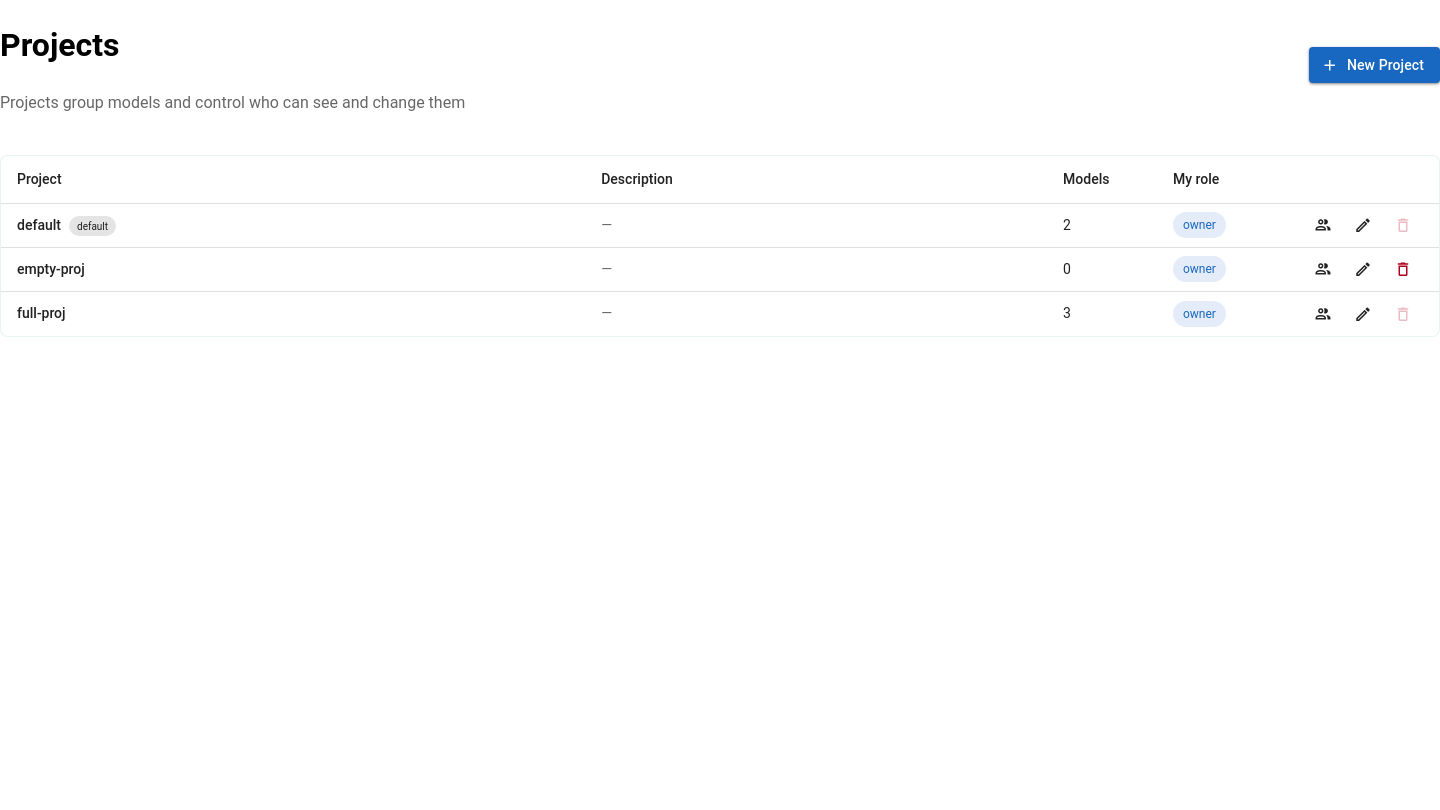
Test case: ProjectsPage project management › shows the API error when deletion is rejected
Click the button named "Delete empty-proj" at (1403, 269), box [1383, 249, 1423, 289]
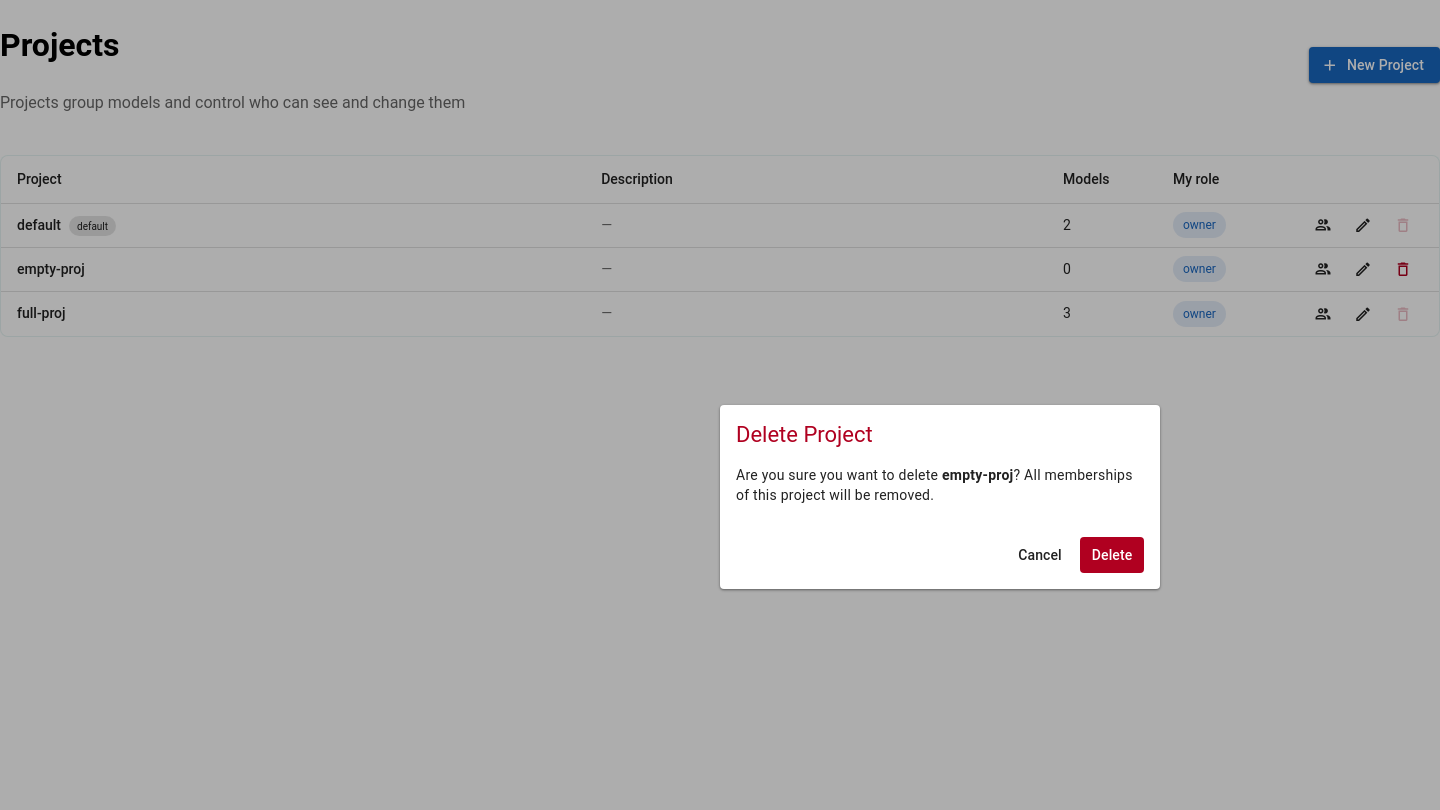
Click the button "Delete" at (1112, 555), box [1080, 537, 1144, 573]
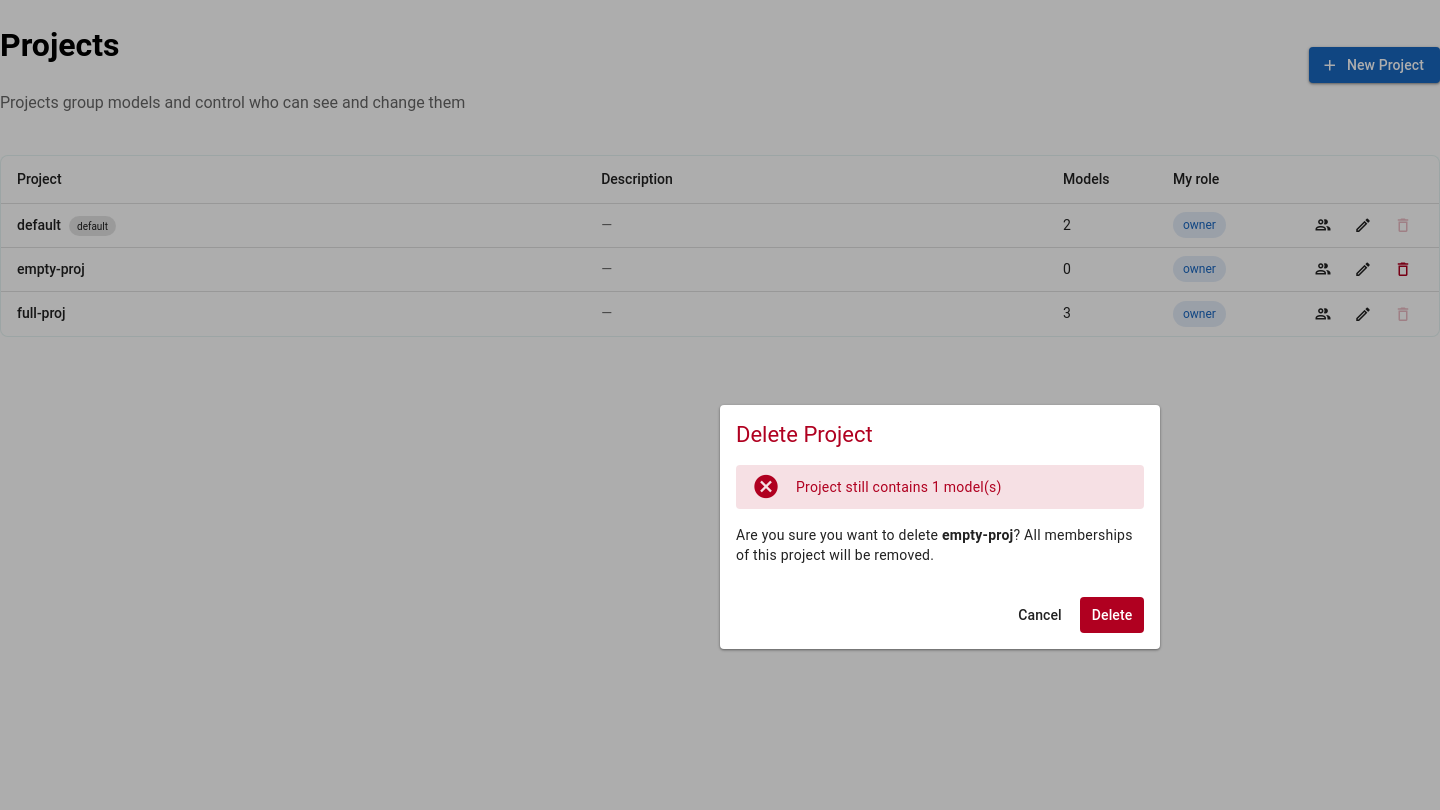
Result: the text "Project still contains 1 model(s)" is shown at [796, 479, 1002, 495]
